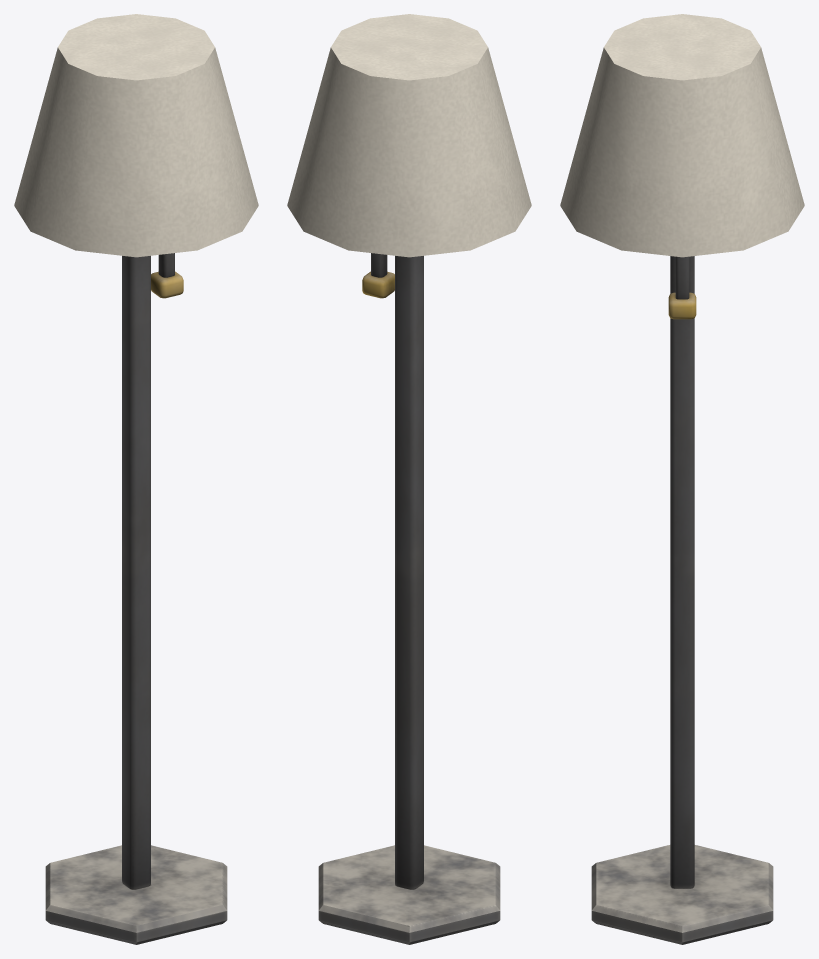
File: floor_lamp.fbx
3 renders of one model, left to right at view 1: azimuth 30°, elevation 25°; view 2: azimuth 150°, elevation 25°; view 3: azimuth 270°, elevation 25°, orthographic.
Visible parts, largest first — view 1: Body, Button; view 2: Body, Button; view 3: Body, Button.
Boxes of the visible parts, x1=… form: Body: x1=14, y1=14, x2=258, y2=944; Button: x1=151, y1=271, x2=183, y2=298; Body: x1=287, y1=14, x2=531, y2=944; Button: x1=362, y1=271, x2=394, y2=298; Body: x1=560, y1=14, x2=804, y2=944; Button: x1=668, y1=292, x2=696, y2=319.
Size of the model in its own units: 1.4 by 5.4 by 1.4.
1 material, 1 textured.
